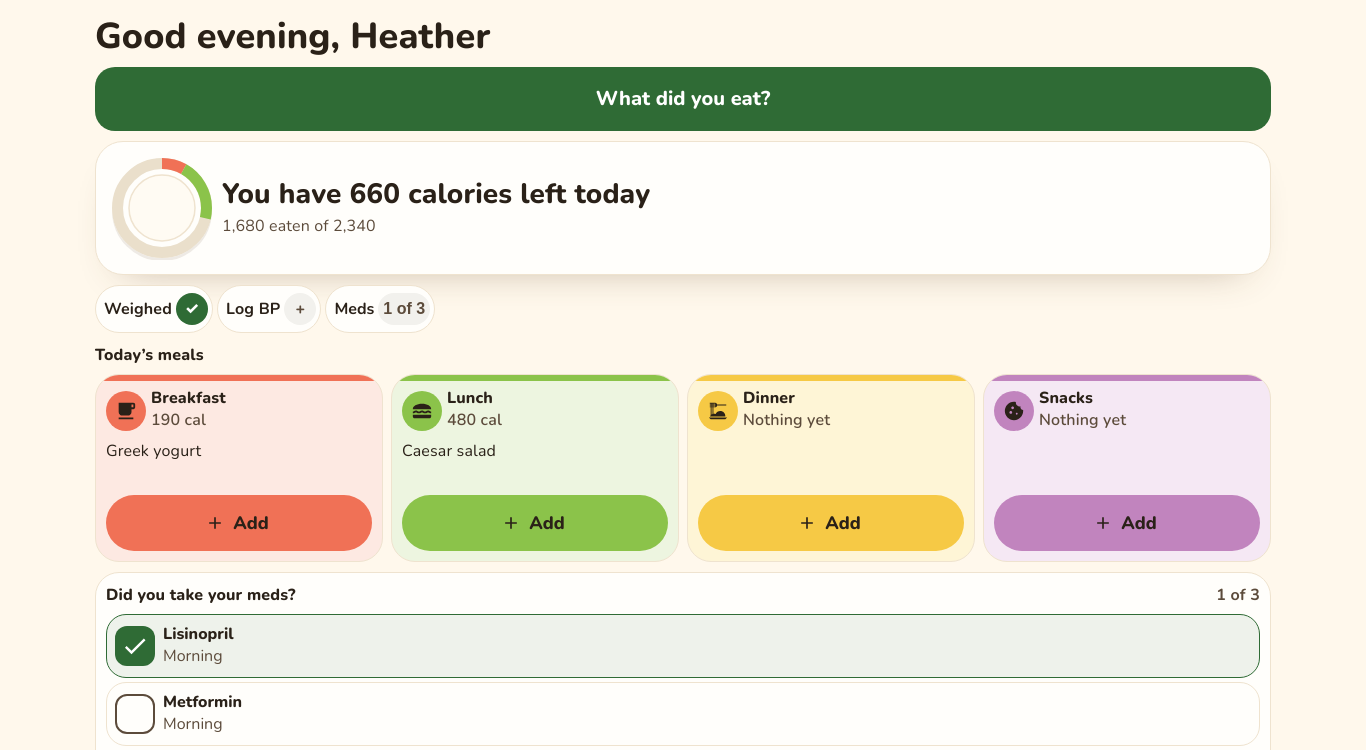
Scenario: the add sheet keeps her words when closed (L18) › from a meal card's Add
expect the element with test id "meal-cards" is shown: met, box top-left (95, 374), bottom-right (1271, 562)
Click the button with aria-label "Add to lunch". click: click(535, 523)
box: top-left (402, 495), bottom-right (668, 551)
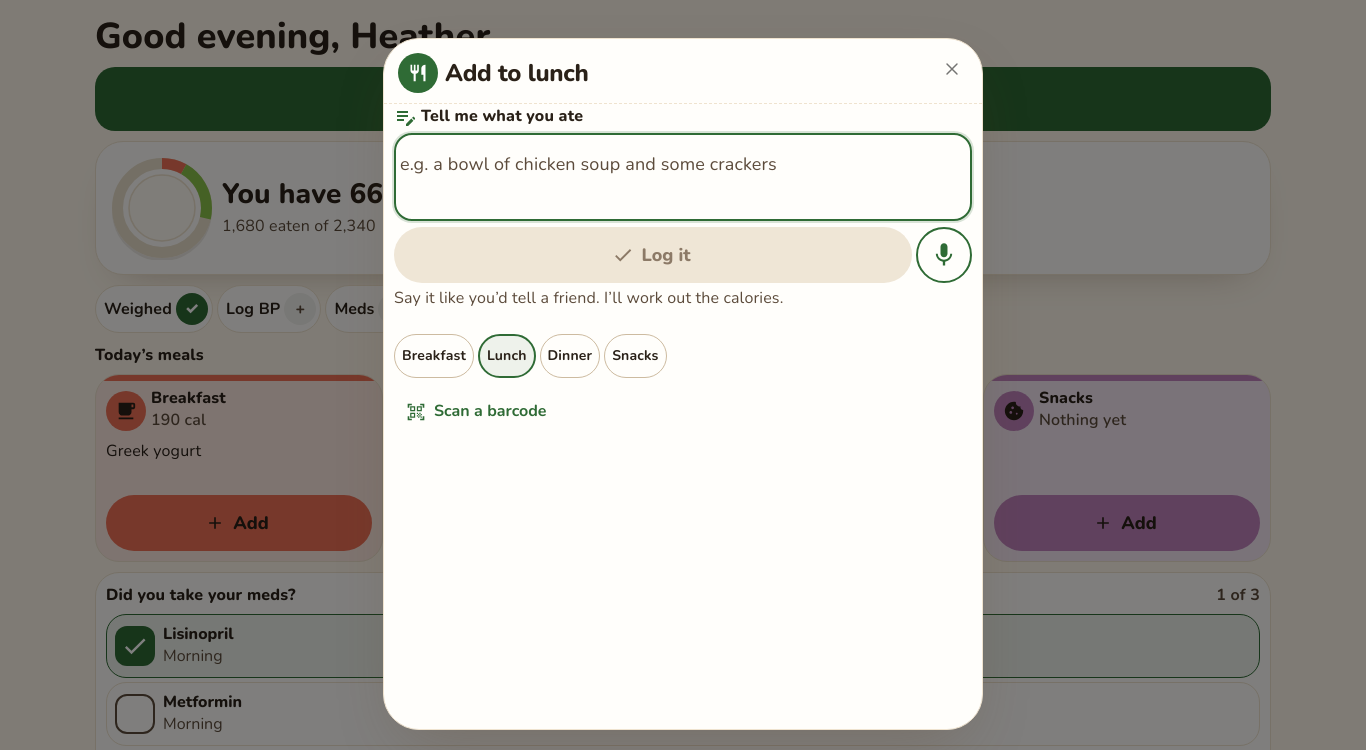
Type "chicken noodle soup" into the text box labelled "Tell me what you ate". click: (683, 177)
box: top-left (400, 139), bottom-right (966, 215)
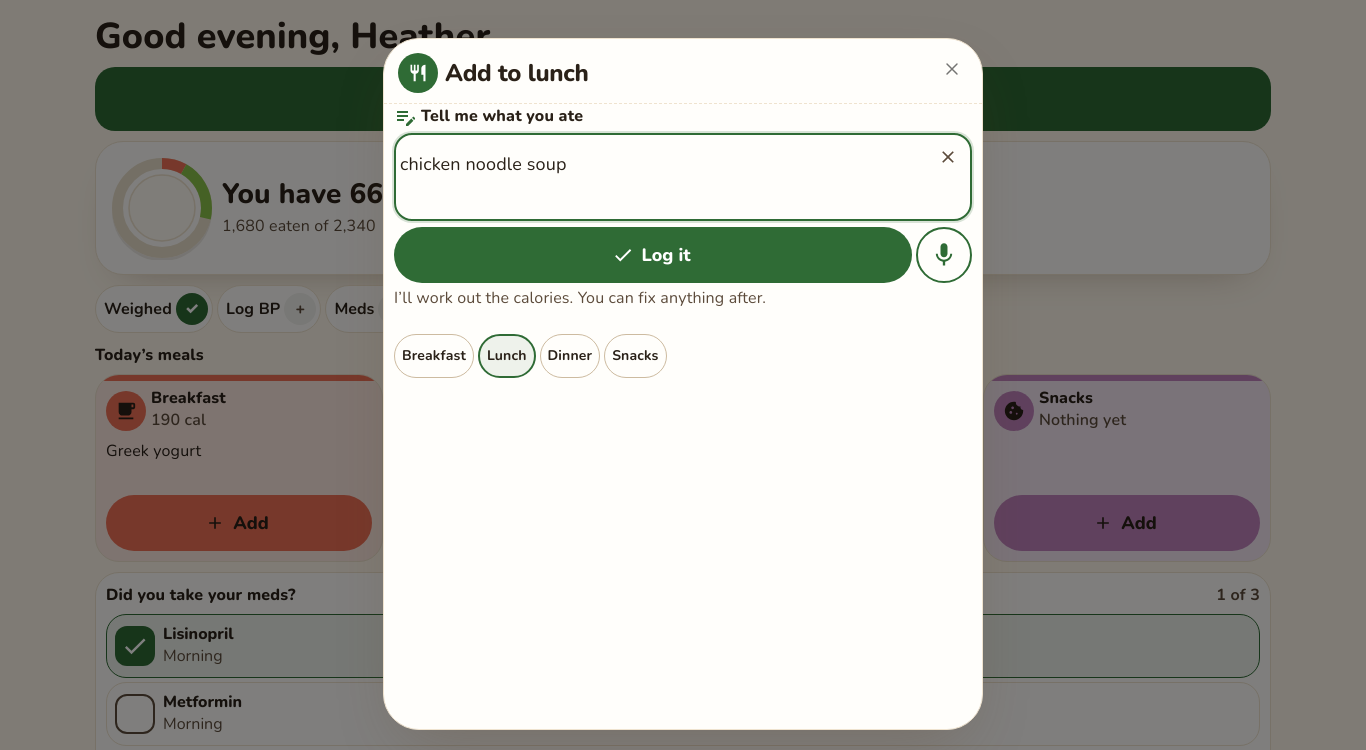
Press Escape in the dialog, box top-left (383, 38), bottom-right (983, 730)
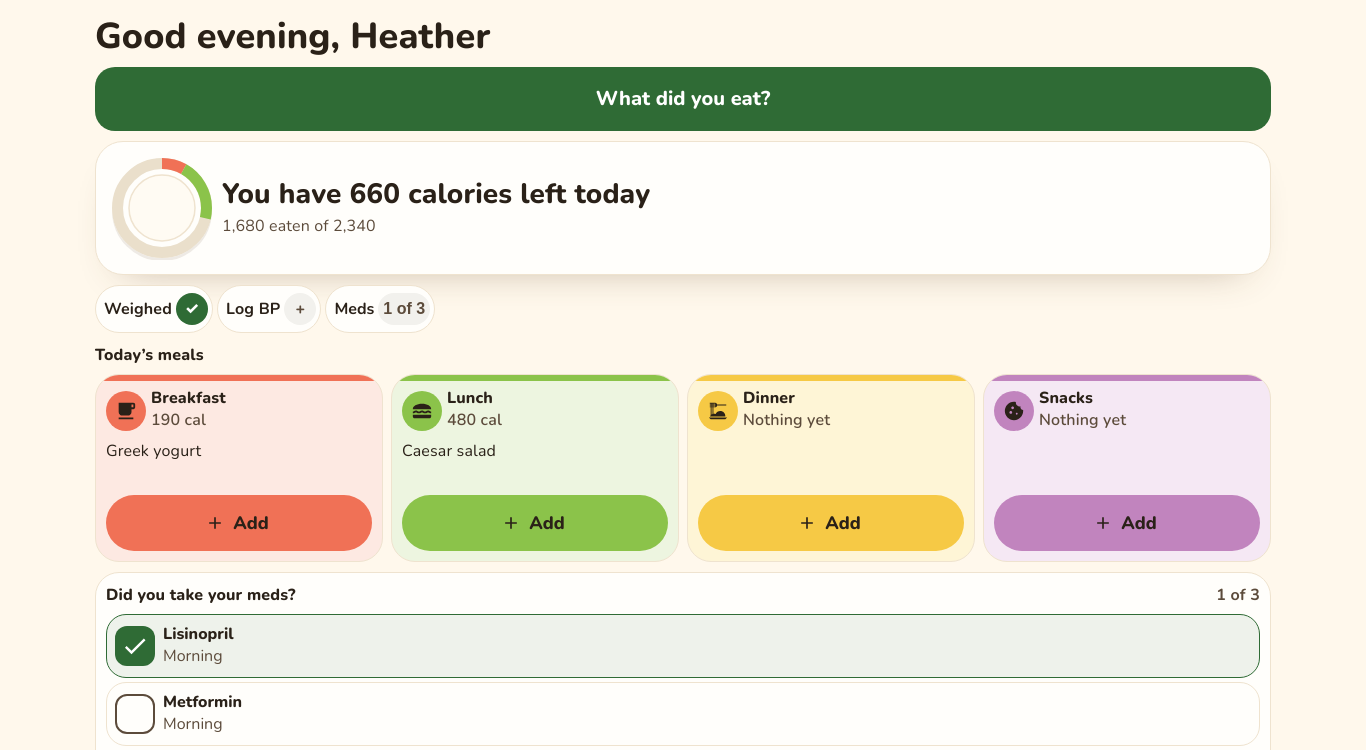
expect the dialog is gone: met
Click the button with aria-label "Add to lunch". click: click(535, 523)
box: top-left (402, 495), bottom-right (668, 551)
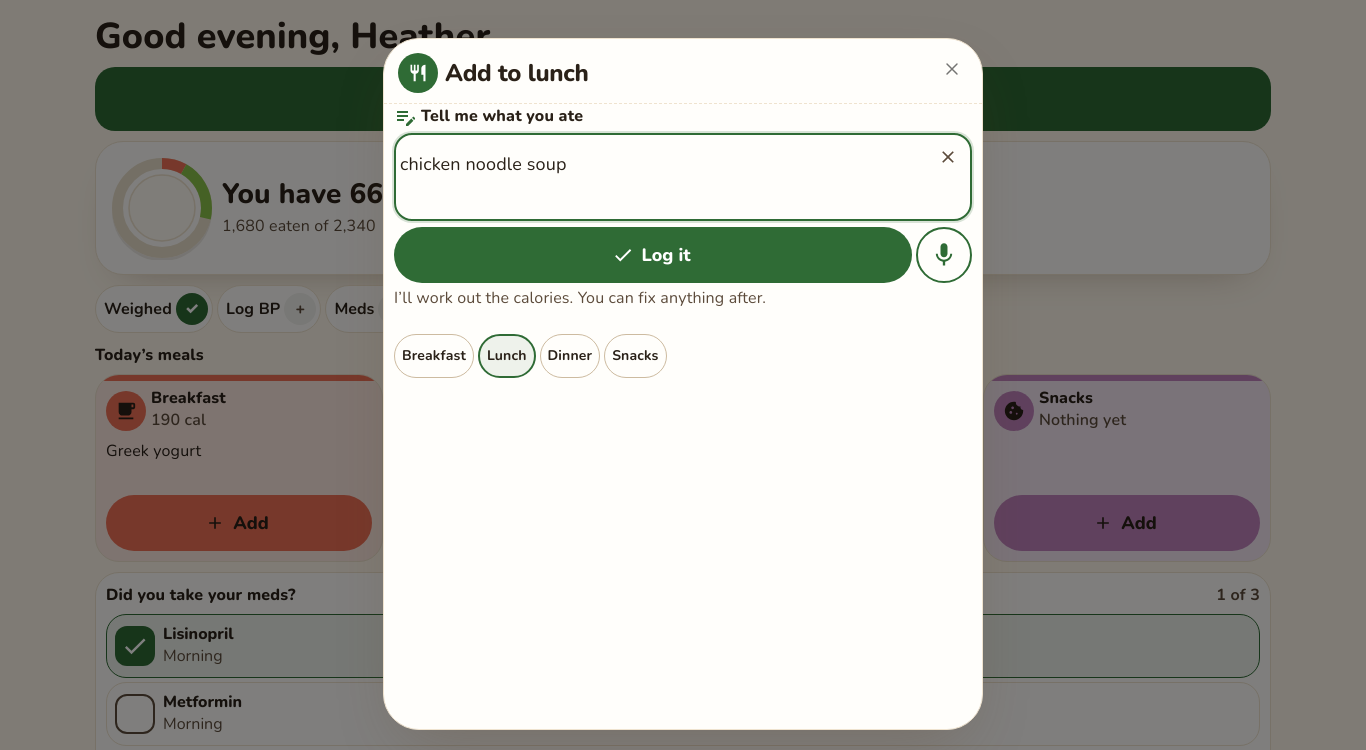
expect the text box labelled "Tell me what you ate" holds "chicken noodle soup": met, box top-left (400, 139), bottom-right (918, 215)
